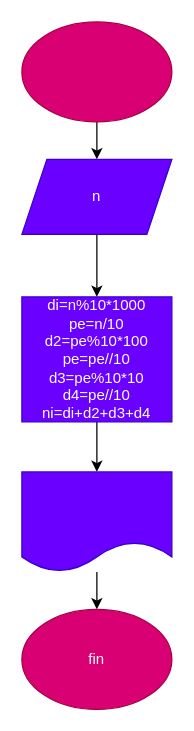
This 194x731 diagram has some shape labels left out. Each missing label, with the centre of its shape:
"inicio" goes at [96,71].
"ni" goes at [96,521].
